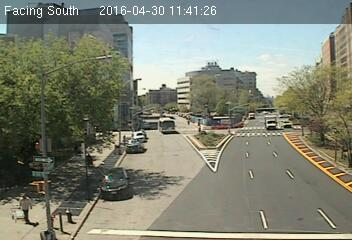neg: (168, 185, 189, 212), (306, 107, 325, 132), (279, 98, 296, 120), (166, 122, 182, 144), (212, 146, 228, 168), (189, 61, 205, 83), (54, 80, 70, 101), (255, 150, 270, 170), (254, 44, 269, 64), (212, 116, 227, 135), (24, 66, 39, 85), (134, 60, 148, 79), (43, 108, 57, 126), (76, 191, 89, 209), (62, 208, 75, 226), (32, 151, 45, 168), (129, 147, 141, 164), (91, 61, 102, 76), (99, 177, 109, 191)
pos: (11, 190, 37, 225), (82, 151, 96, 169)
